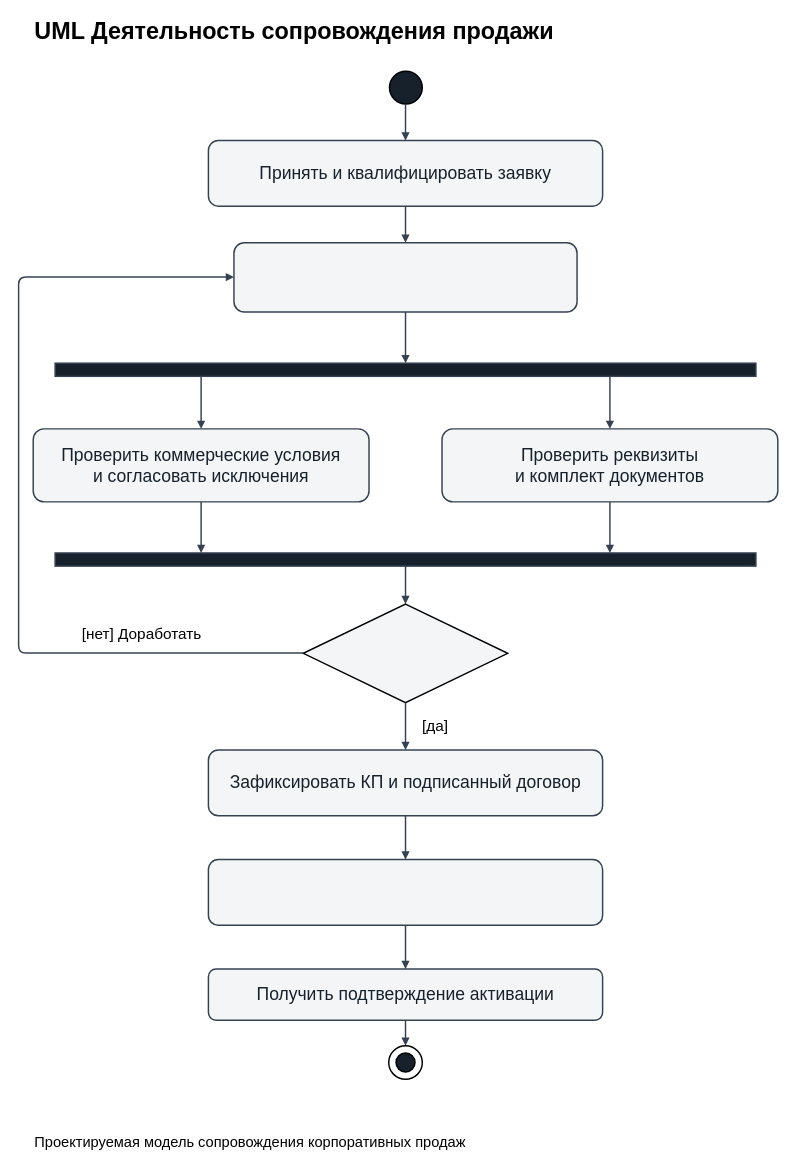
Image size: 791x1164. Some labels were removed from this diagram. The shapes that lost their labels are listed below. From the top down, each one's centre as x and y in pixels, then its label:
At [405,277]: "Подготовить версию КП".
At [405,653]: "Обе проверки успешны?".
At [405,892]: "Создать заказ и передать на подключение".
